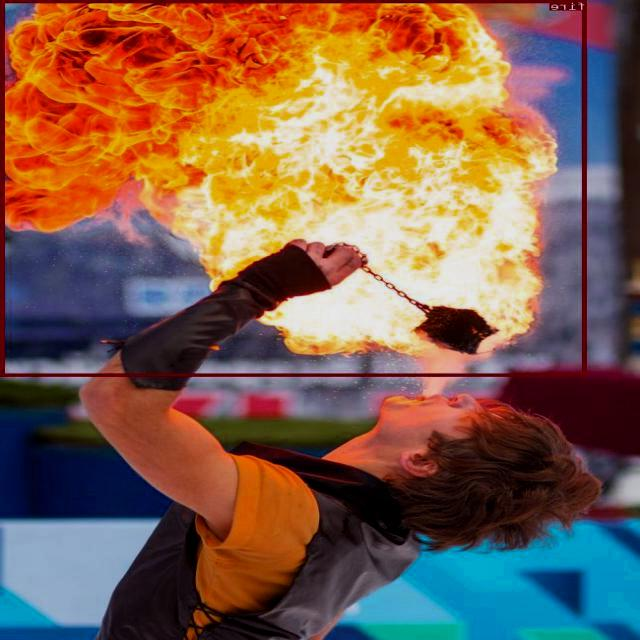fire: (2, 0, 587, 375)
